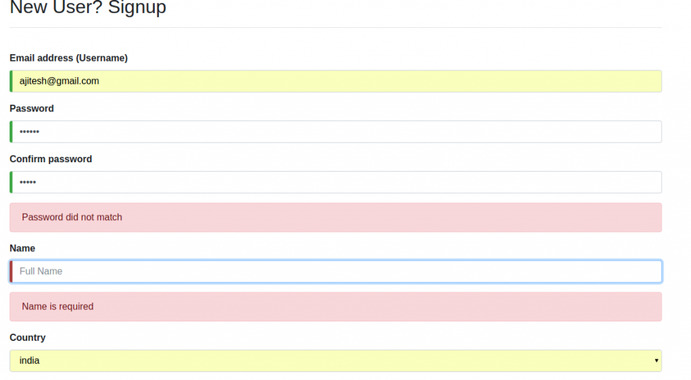_form_: (1, 1, 670, 379)
field: (6, 255, 664, 286), (8, 67, 663, 96), (7, 168, 665, 196), (7, 118, 664, 145)
field_with_label: (6, 52, 666, 97), (3, 244, 666, 288), (5, 103, 667, 147), (5, 154, 667, 197), (6, 333, 666, 375)
select: (8, 347, 664, 373)
